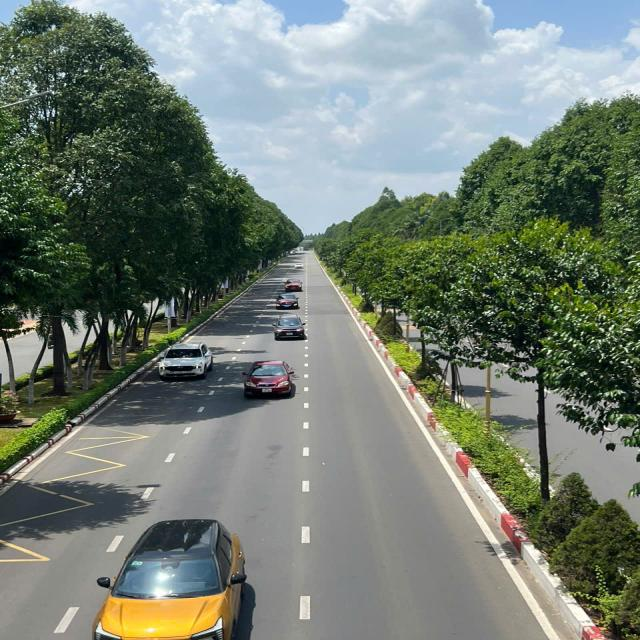car: (106, 515, 242, 640), (164, 342, 212, 382), (248, 360, 294, 400), (274, 313, 306, 339), (278, 293, 298, 308), (286, 279, 302, 292), (295, 263, 304, 269)
